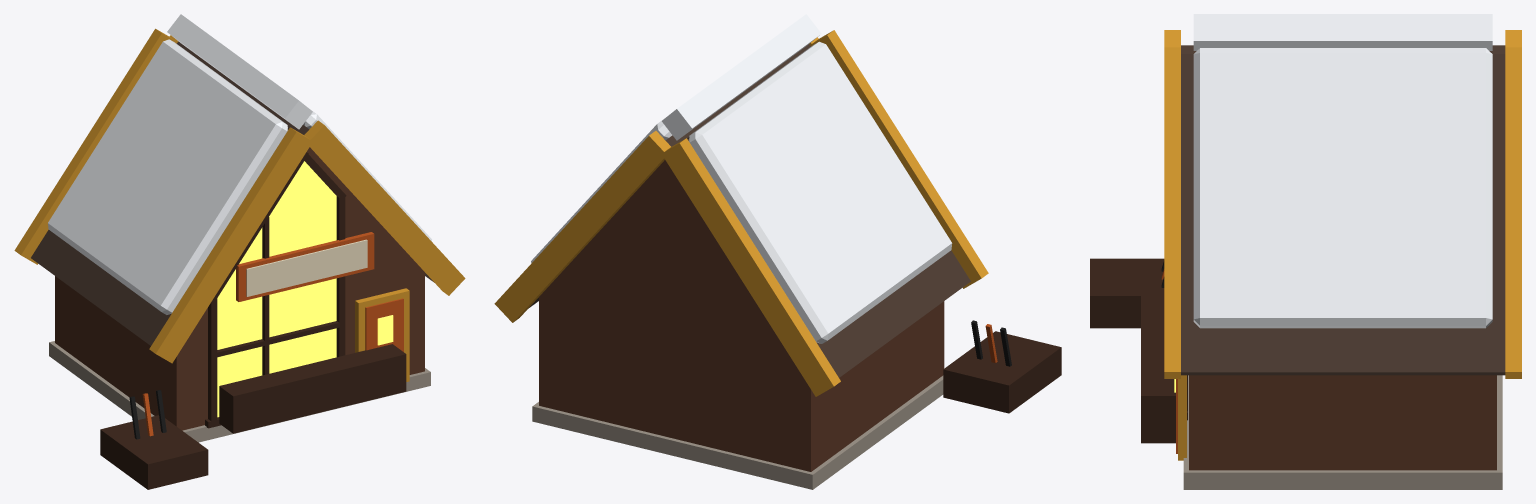
Rendered from rental-shop-chalet70s.glb.
The picture shows the model from 3 angles, left to right: view 1: azimuth 30°, elevation 25°; view 2: azimuth 150°, elevation 25°; view 3: azimuth 270°, elevation 25°; orthographic projection. The views are drawn at different scales.
Parts seen in each view (by area): view 1: rental-shop-chalet70s; view 2: rental-shop-chalet70s; view 3: rental-shop-chalet70s.
Part boxes in pixels (x1=…): rental-shop-chalet70s: x1=14, y1=14, x2=465, y2=489; rental-shop-chalet70s: x1=494, y1=14, x2=1061, y2=489; rental-shop-chalet70s: x1=1090, y1=14, x2=1521, y2=489.
Size of the model in its own units: 9.22 by 7.96 by 7.85.
